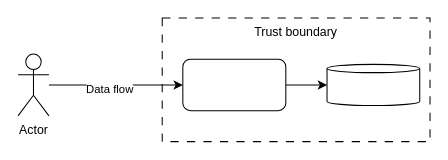
This 448x160 diagram has some shape labels left out. The shapes that lost their labels are listed below. From the top down, each one's centre as x and y in pixels, then its label:
At point 234,84: "Process".
At point 373,84: "Data store".
